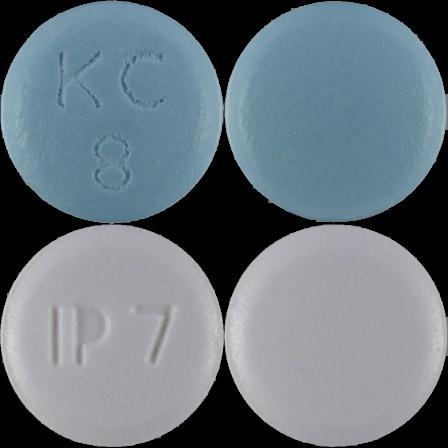65084-464: (0, 0, 224, 224)
